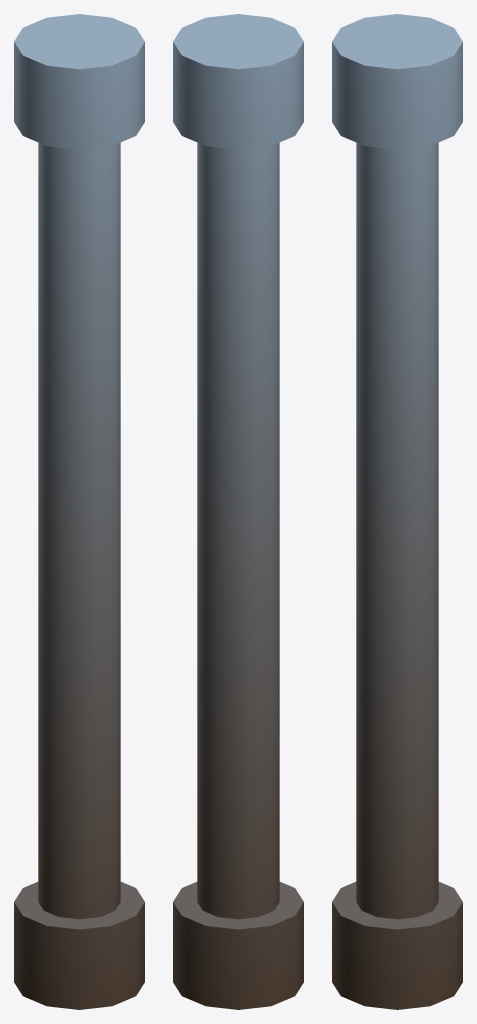
3 renders of one model, left to right at view 1: azimuth 30°, elevation 25°; view 2: azimuth 210°, elevation 25°; view 3: azimuth 330°, elevation 25°, orthographic.
Visible parts, largest first — view 1: Cylinder.049; view 2: Cylinder.049; view 3: Cylinder.049.
Part boxes in pixels (x1,y1,x2,y2): Cylinder.049: (14, 14, 144, 1009); Cylinder.049: (173, 14, 303, 1009); Cylinder.049: (332, 14, 462, 1009).
Bounding box in the file's own units: 2 × 15.86 × 2.
